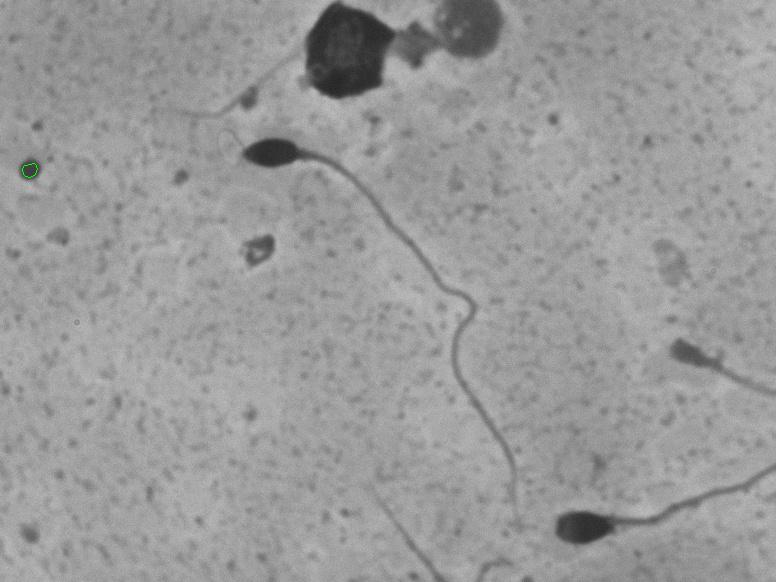Abnormal: (230, 110, 537, 546)
